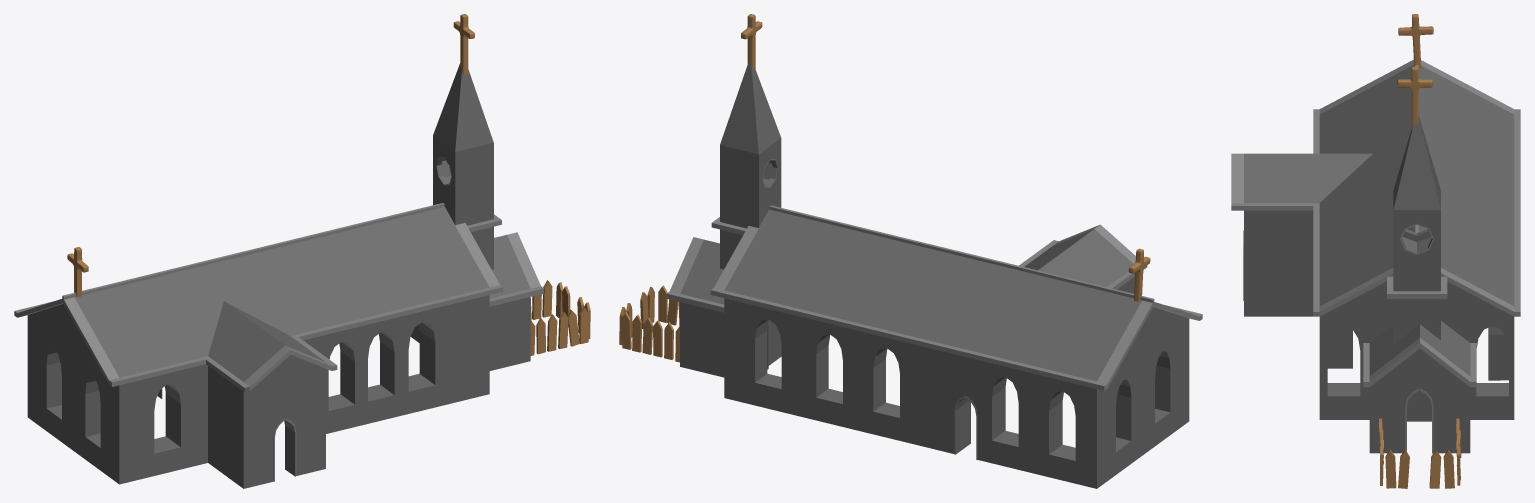
The model's file is Church.fbx.
3 renders of one model, left to right at view 1: azimuth 30°, elevation 25°; view 2: azimuth 150°, elevation 25°; view 3: azimuth 270°, elevation 25°, orthographic. The views are drawn at different scales.
Parts seen in each view (by area): view 1: Church Main, Tower, Church Front Small, Fences Group 1, Fences Group 2, Cross Tower; view 2: Church Main, Tower, Church Front Small, Fences Group 2, Fences Group 1; view 3: Church Main, Church Front Small, Tower, Fences Group 2, Fences Group 1, Cross Tower, Cross Back.
Part boxes in pixels (x1=…): Church Main: x1=14, y1=203, x2=502, y2=488; Tower: x1=433, y1=63, x2=501, y2=269; Church Front Small: x1=489, y1=232, x2=543, y2=370; Fences Group 1: x1=530, y1=297, x2=590, y2=355; Fences Group 2: x1=530, y1=280, x2=570, y2=320; Cross Tower: x1=453, y1=14, x2=474, y2=75; Church Main: x1=710, y1=205, x2=1202, y2=488; Tower: x1=711, y1=61, x2=781, y2=269; Church Front Small: x1=666, y1=237, x2=724, y2=377; Fences Group 2: x1=619, y1=303, x2=679, y2=362; Fences Group 1: x1=640, y1=285, x2=679, y2=328; Church Main: x1=1231, y1=59, x2=1520, y2=419; Church Front Small: x1=1363, y1=321, x2=1476, y2=453; Tower: x1=1387, y1=116, x2=1447, y2=344; Fences Group 2: x1=1429, y1=418, x2=1461, y2=488; Fences Group 1: x1=1379, y1=418, x2=1409, y2=488; Cross Tower: x1=1397, y1=66, x2=1432, y2=130; Cross Back: x1=1398, y1=14, x2=1433, y2=68.
Bounding box in the file's own units: 9852 × 6263 × 4528.
